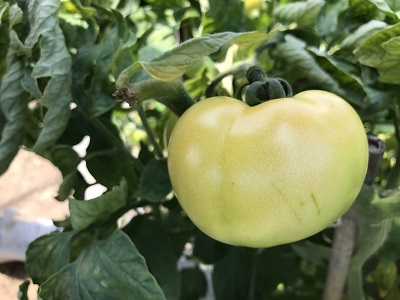immature-tomato: (166, 83, 368, 247)
